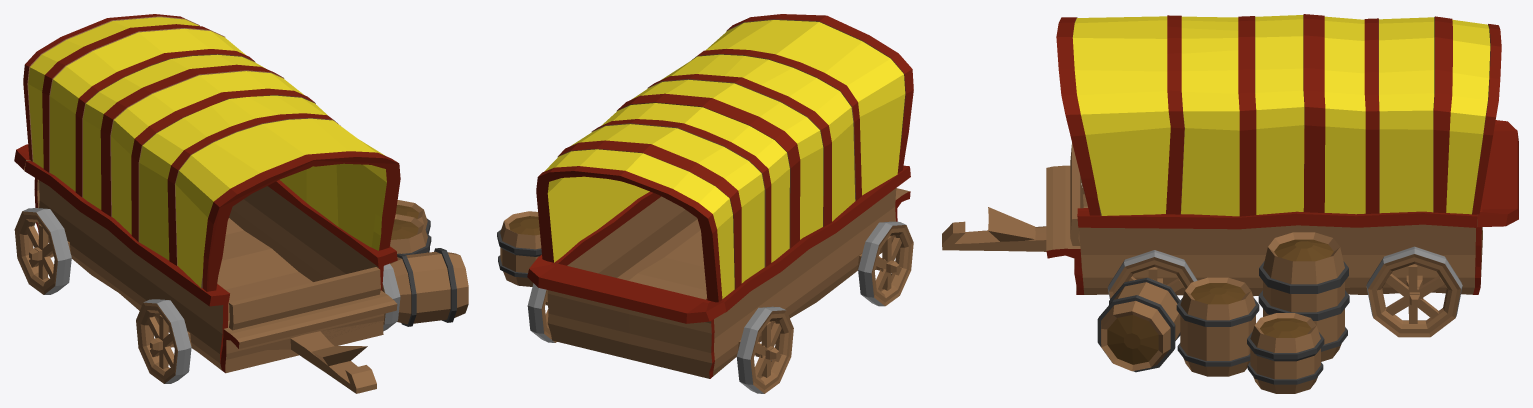
File: Building_LV2_HorseCargo_Yellow.fbx
3 renders of one model, left to right at view 1: azimuth 30°, elevation 25°; view 2: azimuth 150°, elevation 25°; view 3: azimuth 270°, elevation 25°, orthographic. The views are drawn at different scales.
Parts seen in each view (by area): view 1: Carriage_Yellow; view 2: Carriage_Yellow; view 3: Carriage_Yellow.
Part boxes in pixels (left/top/right/bottom): Carriage_Yellow: left=14, top=14, right=468, bottom=393; Carriage_Yellow: left=497, top=14, right=913, bottom=393; Carriage_Yellow: left=942, top=14, right=1518, bottom=393.
Size of the model in its own units: 459 by 301 by 635.
2 materials, 2 textured.
